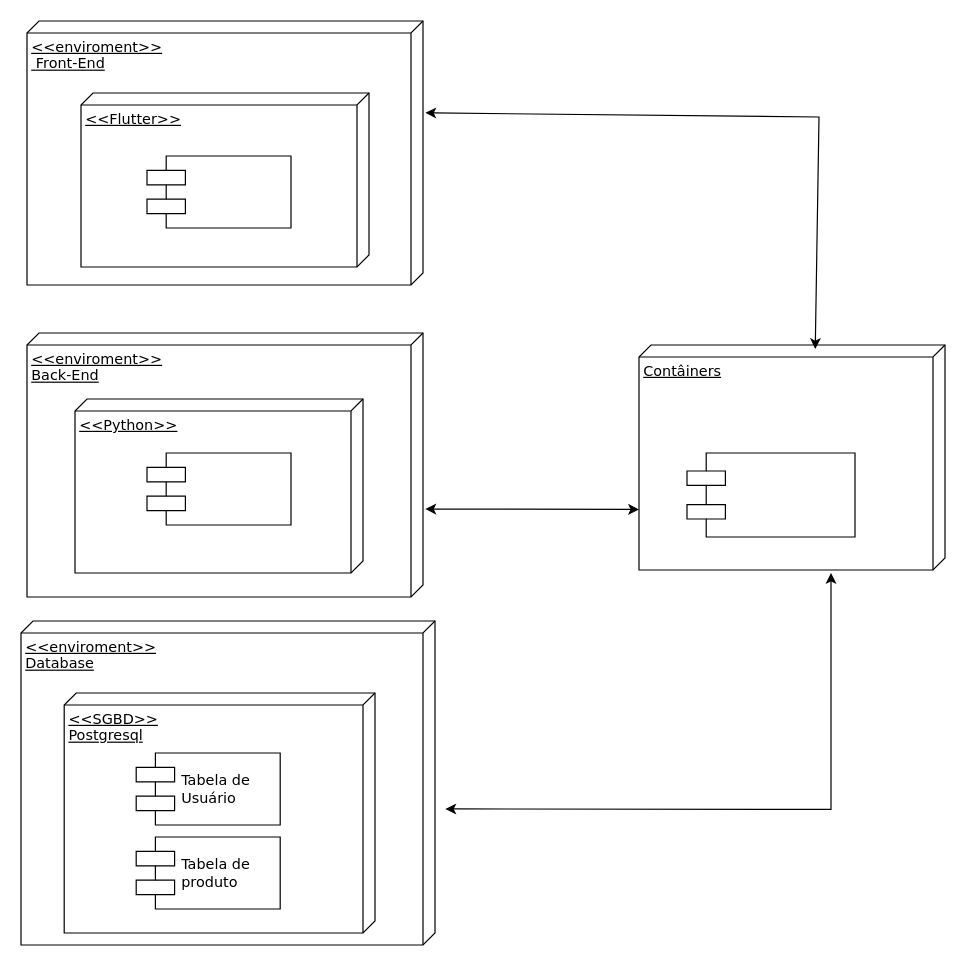
Some shapes in this 966 by 966 pixel diagram are drawn without their labels. The shapes that lost their labels are listed below. From the top down, each one's centre as x and y in pixels, then its label:
At point 218,191: "Fluxo do Usuario".
At point 218,488: "Serviço de Usuário".
At point 770,494: "<<artifact>> Docker".
